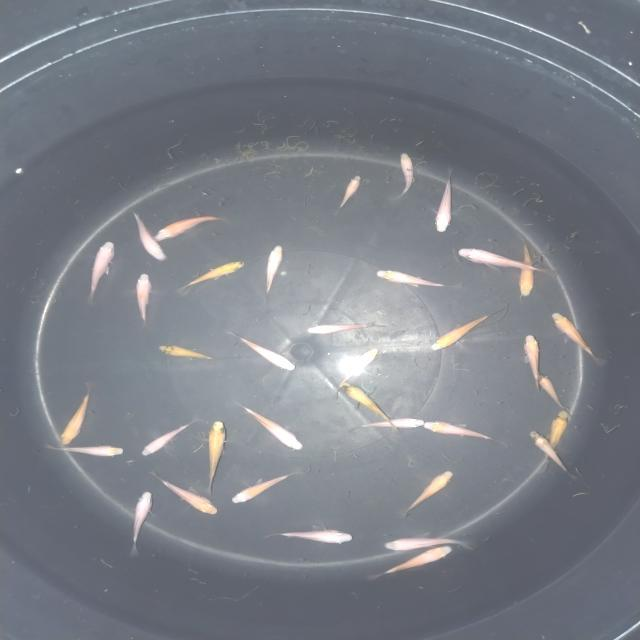nila: (238, 397, 306, 453), (147, 470, 221, 518), (228, 329, 302, 374), (456, 243, 558, 275), (338, 381, 404, 430), (426, 310, 496, 355), (364, 546, 456, 580), (548, 309, 602, 365), (526, 410, 571, 474), (148, 212, 232, 245), (399, 469, 456, 516), (258, 521, 356, 548), (57, 382, 97, 448), (129, 207, 172, 268), (524, 428, 576, 478), (230, 468, 298, 506), (199, 418, 233, 494), (421, 416, 507, 446), (84, 238, 121, 304), (139, 419, 198, 458), (334, 344, 383, 390), (182, 260, 246, 294), (432, 166, 462, 236), (126, 489, 157, 556), (376, 533, 479, 553), (372, 266, 456, 290), (531, 368, 572, 416), (305, 320, 388, 340), (260, 242, 288, 298), (130, 270, 157, 328), (40, 442, 128, 459), (515, 237, 538, 300), (153, 341, 222, 361), (521, 330, 542, 395), (390, 148, 415, 202), (336, 170, 364, 214), (354, 414, 427, 430)
